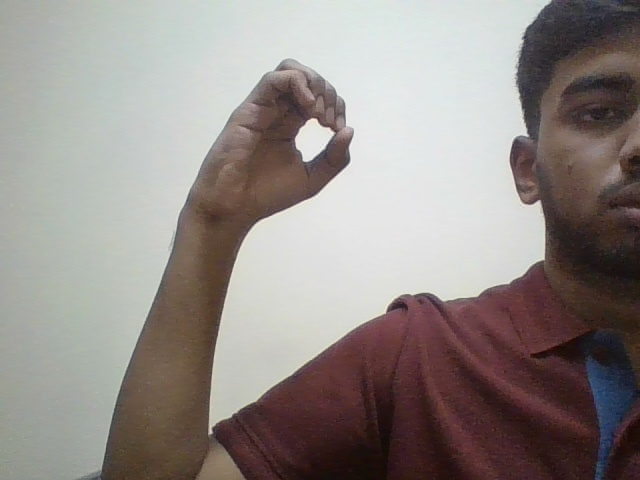O: (170, 43, 376, 245)
